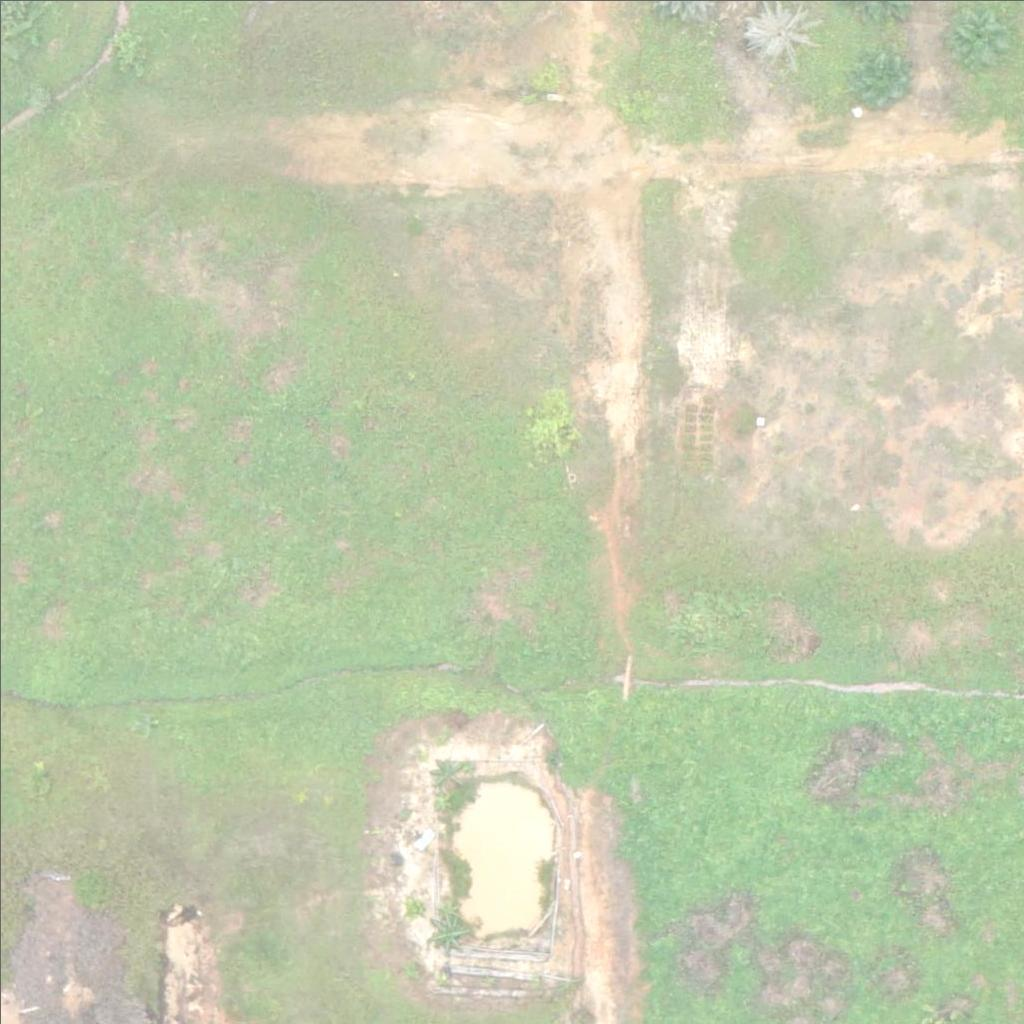Kelapa_Sawit: (947, 8, 1010, 71), (852, 48, 914, 110)
